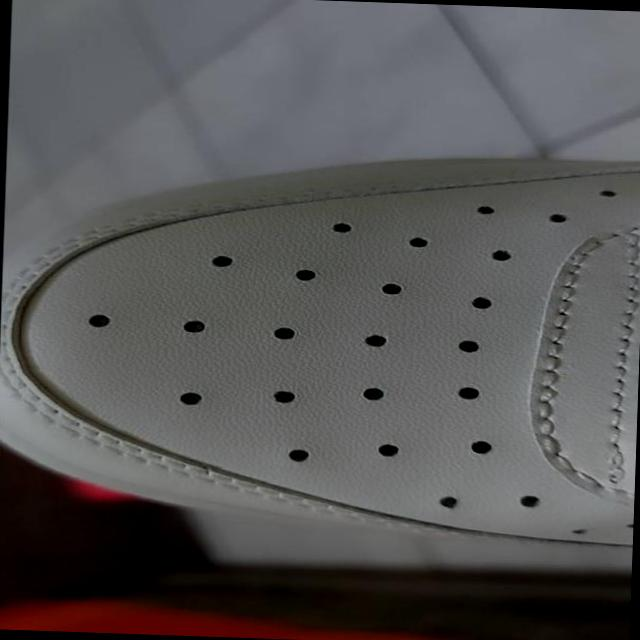nike_original_airforce: (0, 138, 640, 553)
